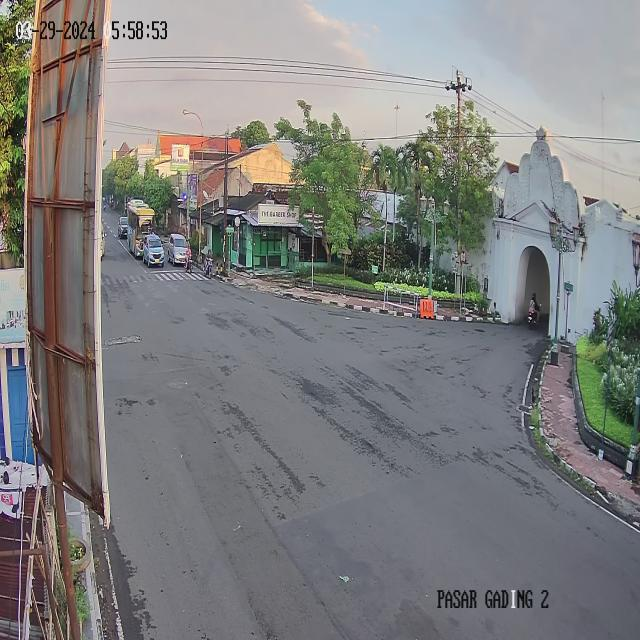bus: (127, 203, 157, 261), (127, 198, 151, 231)
car: (142, 231, 166, 269), (168, 231, 190, 268), (117, 213, 131, 240)
motorcycle: (528, 292, 544, 331), (202, 247, 213, 280), (184, 242, 193, 276), (103, 201, 107, 213)
